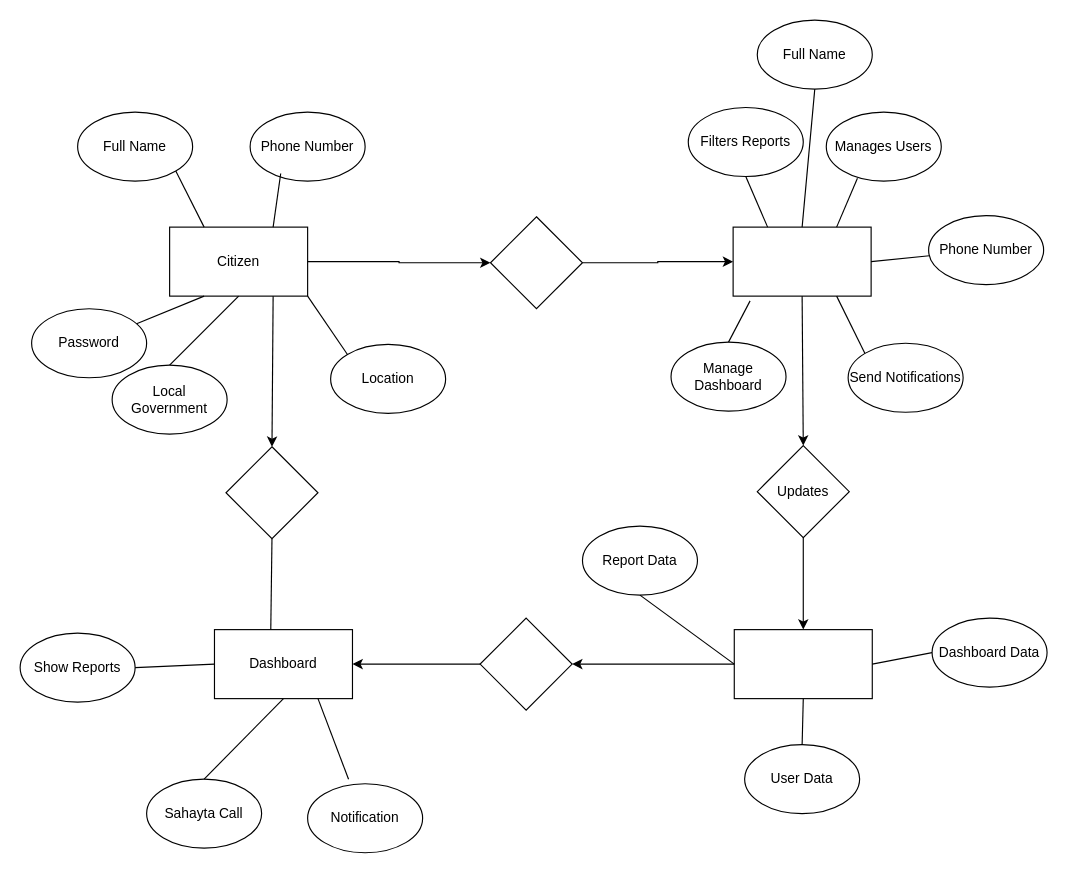
Image size: 1067x873. Some labels were removed from this diagram. Here are the shapes that lost their labels. From the top down, the centre of each, then its label:
At [535,262]: "Reports".
At [801,261]: "Admin".
At [271,492]: "Uses".
At [525,663]: "Sends Data".
At [802,663]: "Database".
